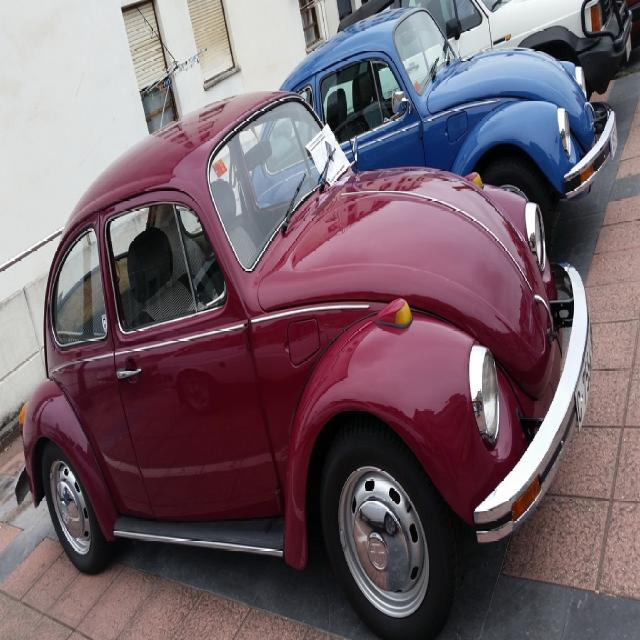car: (13, 93, 591, 638)
